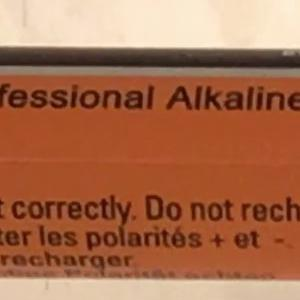keyword: (156, 76, 224, 120)
